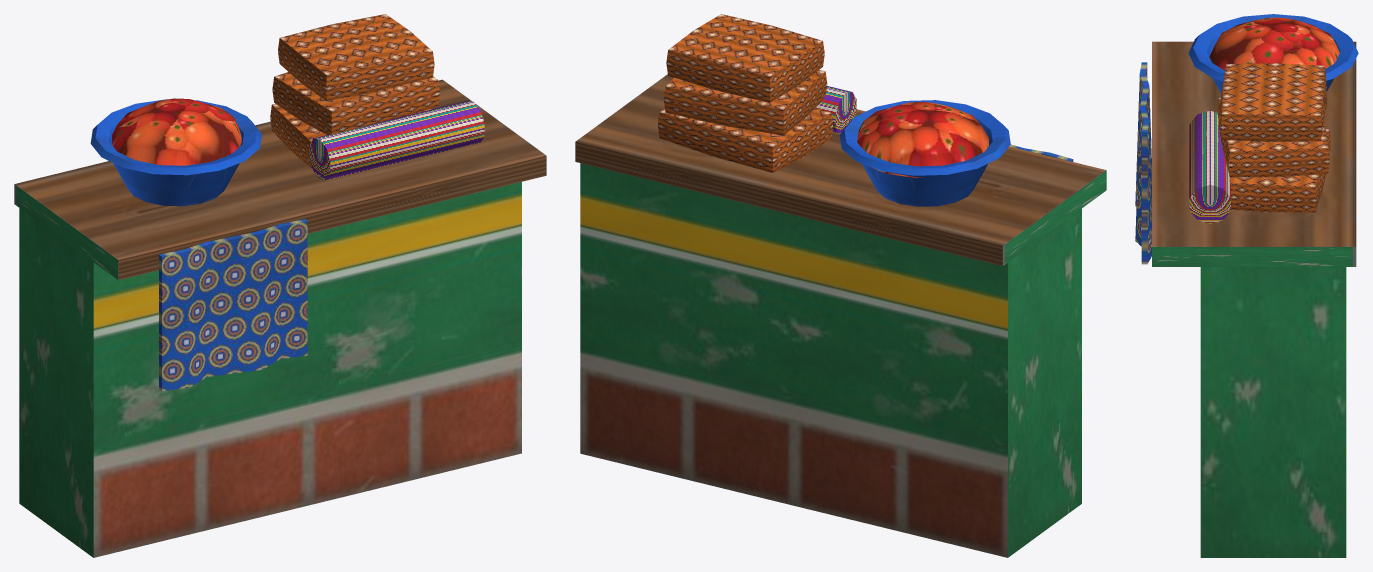
File: mkt_wall.glb
The picture shows the model from 3 angles, left to right: view 1: azimuth 30°, elevation 25°; view 2: azimuth 150°, elevation 25°; view 3: azimuth 270°, elevation 25°; orthographic projection.
Parts seen in each view (by area): view 1: mkt_wall_body; view 2: mkt_wall_body; view 3: mkt_wall_body.
Part boxes in pixels (x1,y1,x2,y2): mkt_wall_body: (14, 14, 546, 557); mkt_wall_body: (575, 14, 1106, 557); mkt_wall_body: (1135, 14, 1358, 557).
Size of the model in its own units: 1 by 0.93 by 0.459.
Materials: 1 (1 with a texture image).
